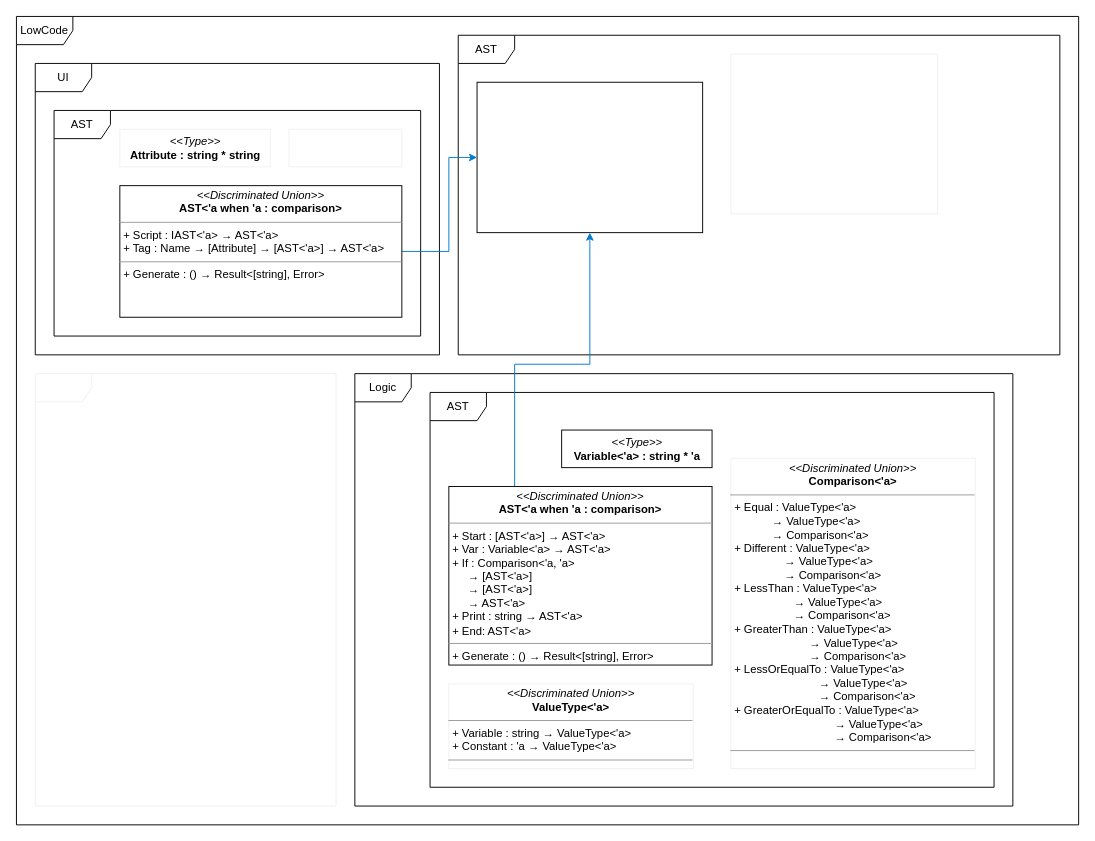
The diagram is 1095 pixels wide and 841 high, and some of its shapes have lost their labels. Each missing label, with the centre of its shape:
"<<Discriminated Union>> TranslationError + UndefinedTag : string → Error" belongs at (834,133).
"<<Interface>> IAST + Generate : () → Result<[string], Error>" belongs at (589,157).
"<<Type>> Name : string" belongs at (345,147).
"Converter" belongs at (185,589).
